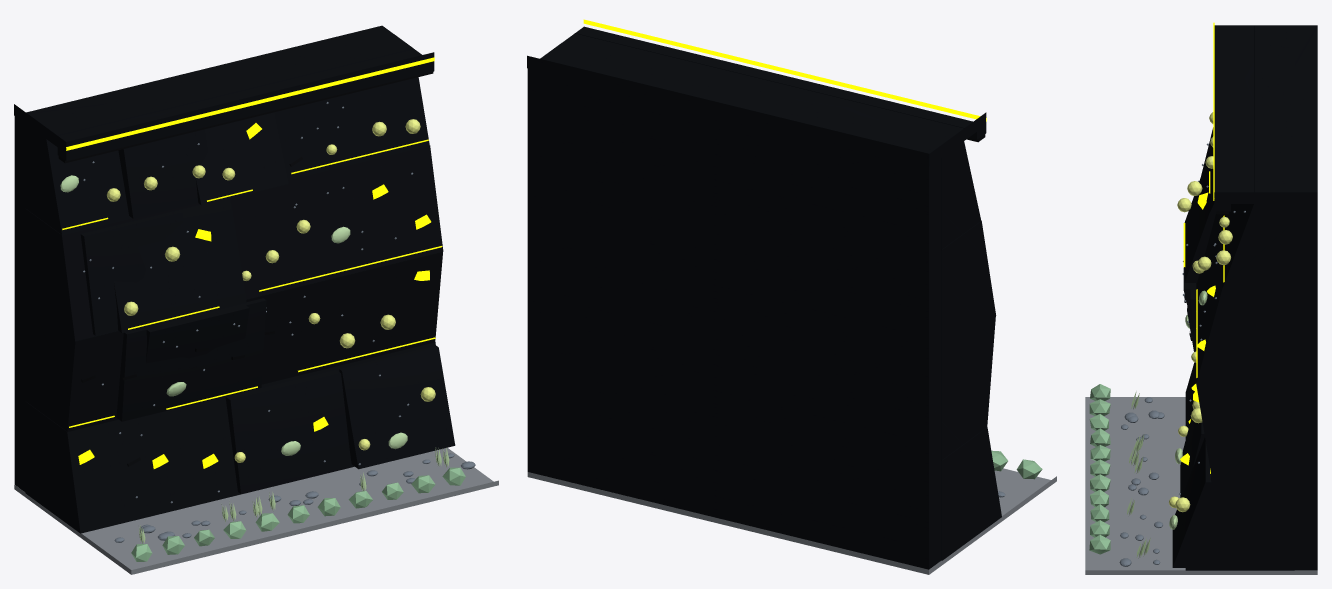
Rendered from tt_plinth_skirt.glb.
3 renders of one model, left to right at view 1: azimuth 30°, elevation 25°; view 2: azimuth 150°, elevation 25°; view 3: azimuth 270°, elevation 25°, orthographic. The views are drawn at different scales.
Parts seen in each view (by area): view 1: Course2_Facets, Course0_Facets, Course1_Facets, Course3_Facets, Base_Mat, Cap_Course, Skirt_Core, Moss_Edge, Tennis_Ball_Holds, Seam_Tape, Cap_Court_Line, Jug_Holds (+4 smaller); view 2: Skirt_Core, Cap_Course, Course3_Facets, Course0_Facets, Course1_Facets, Course2_Facets, Base_Mat, Cap_Court_Line; view 3: Base_Mat, Course3_Facets, Course0_Facets, Course2_Facets, Cap_Course, Course1_Facets, Skirt_Core, Moss_Edge, Tennis_Ball_Holds, River_Stones, Grass_Tufts, Jug_Holds (+3 smaller).
Part boxes in pixels (x1,y1,x2,y2): Course2_Facets: (25,145,443,341); Course0_Facets: (25,342,455,533); Course1_Facets: (25,251,442,431); Course3_Facets: (25,33,429,234); Base_Mat: (14,447,498,574); Cap_Course: (14,25,434,161); Skirt_Core: (14,116,25,492); Moss_Edge: (131,467,465,561); Tennis_Ball_Holds: (107,119,435,462); Seam_Tape: (62,139,442,427); Cap_Court_Line: (66,57,434,150); Jug_Holds: (78,123,431,468); Skirt_Core: (527,68,941,569); Cap_Course: (527,26,986,166); Course3_Facets: (540,42,981,249); Course0_Facets: (941,427,1001,560); Course1_Facets: (941,316,995,460); Course2_Facets: (941,221,996,355); Base_Mat: (527,468,1056,574); Cap_Court_Line: (583,19,986,121); Base_Mat: (1085,397,1317,574); Course3_Facets: (1209,25,1294,287); Course0_Facets: (1172,362,1294,570); Course2_Facets: (1184,127,1294,384); Cap_Course: (1214,25,1317,211); Course1_Facets: (1183,267,1294,479); Skirt_Core: (1294,204,1317,570); Moss_Edge: (1089,384,1110,554); Tennis_Ball_Holds: (1169,112,1232,512); River_Stones: (1119,397,1164,566); Grass_Tufts: (1127,391,1150,558); Jug_Holds: (1180,192,1215,465).
Size of what is drawn, in the model's own units: 4 by 4 by 2.2.
8 materials, 3 textured.
